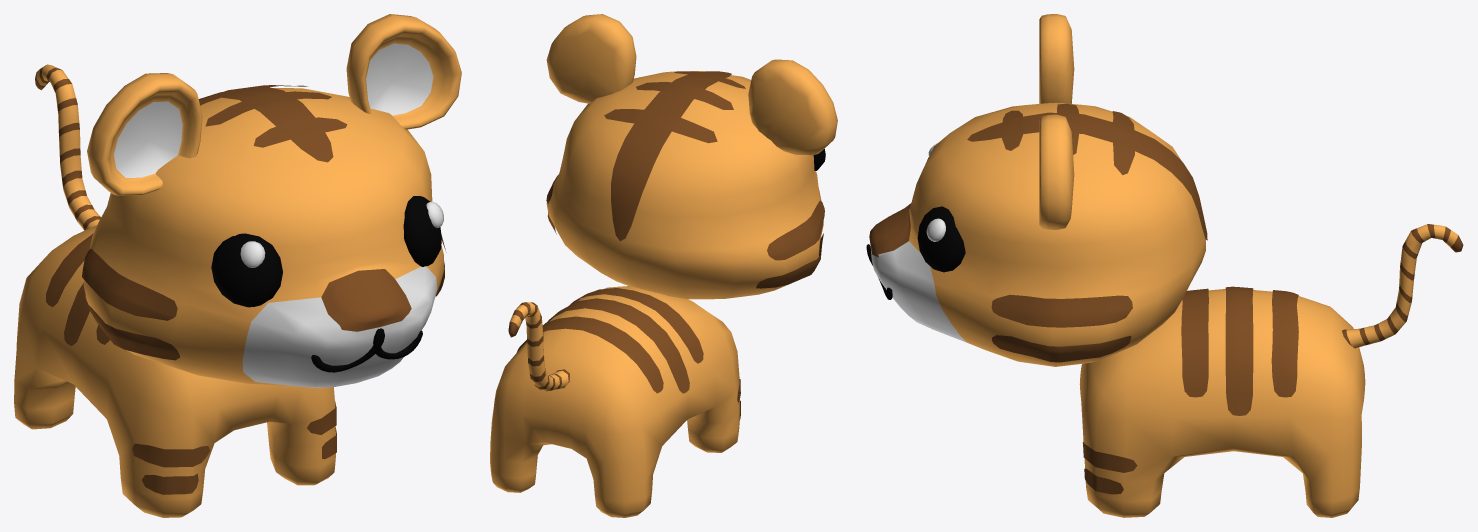
The model's file is tiger.fbx.
3 views of the same model, side by side, from view 1: azimuth 30°, elevation 25°; view 2: azimuth 150°, elevation 25°; view 3: azimuth 270°, elevation 25° (orthographic). The views are drawn at different scales.
Parts seen in each view (by area): view 1: tiger_head, tiger_body; view 2: tiger_head, tiger_body; view 3: tiger_head, tiger_body.
Part boxes in pixels (x1,y1,x2,y2): tiger_head: [82, 14, 461, 387]; tiger_body: [14, 64, 336, 517]; tiger_head: [546, 14, 837, 299]; tiger_body: [490, 286, 740, 517]; tiger_head: [866, 14, 1207, 366]; tiger_body: [1079, 224, 1463, 517].
Bounding box in the file's own units: 68.59 × 85.59 × 112.
